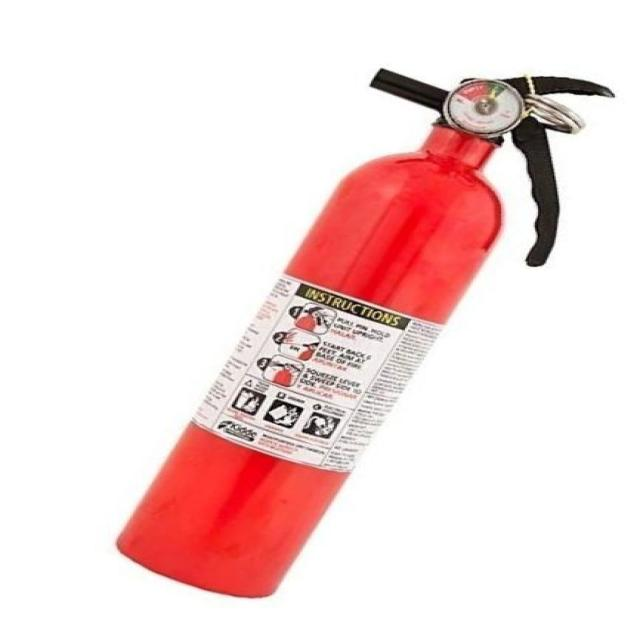fire_extinguisher: (102, 64, 618, 600)
